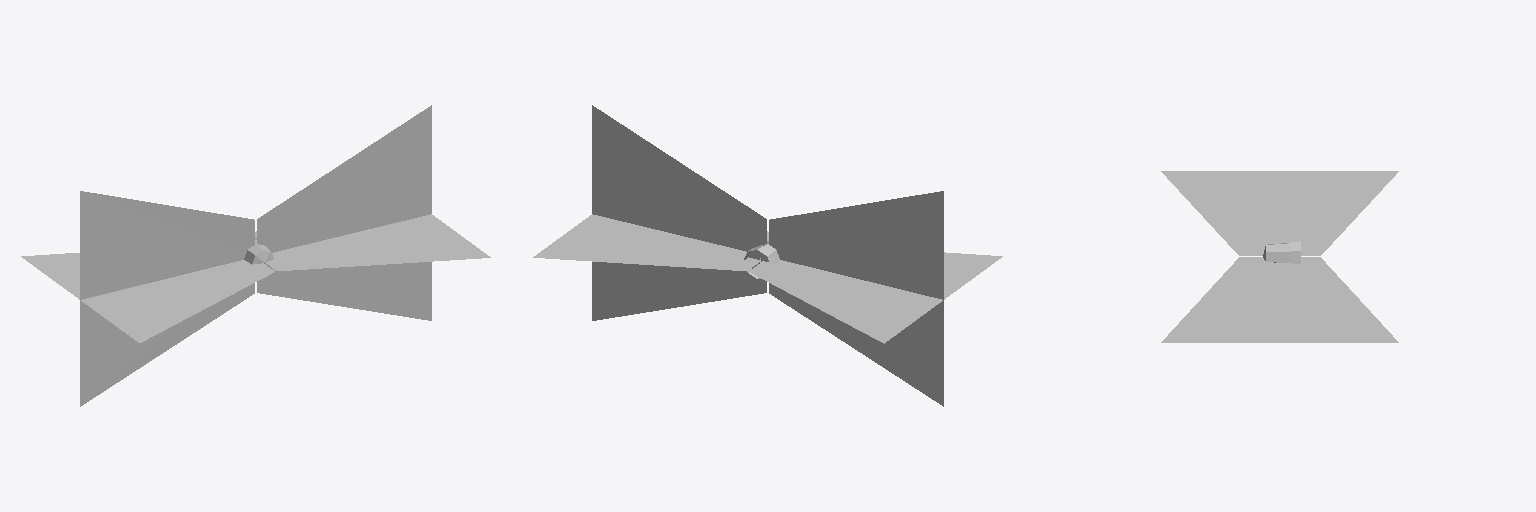
Rendered from stg400_MotRotlightA_m3_13.obj.
3 renders of one model, left to right at view 1: azimuth 30°, elevation 25°; view 2: azimuth 150°, elevation 25°; view 3: azimuth 270°, elevation 25°, orthographic.
Parts seen in each view (by area): view 1: polygon4; view 2: polygon4; view 3: polygon4.
Boxes of the visible parts, x1=… form: polygon4: x1=21, y1=105, x2=490, y2=406; polygon4: x1=533, y1=105, x2=1002, y2=406; polygon4: x1=1161, y1=171, x2=1398, y2=342.
Size of the model in its own units: 109 by 63.89 by 63.89.